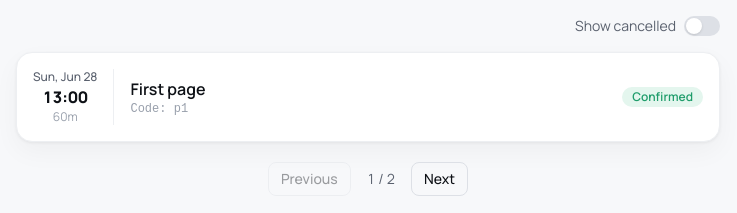
it: Calendar page › paginates: Next fetches the next page from the server, not the whole list
Expected: the text "First page" is shown, [130, 78, 206, 100]
Expected: the text "1 / 2" is shown, [367, 169, 395, 189]
Click the button "Next": [440, 179] box [411, 162, 468, 196]
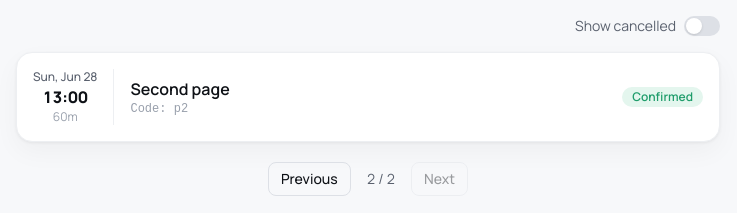
Now the text "Second page" is shown, box [130, 78, 230, 100]
